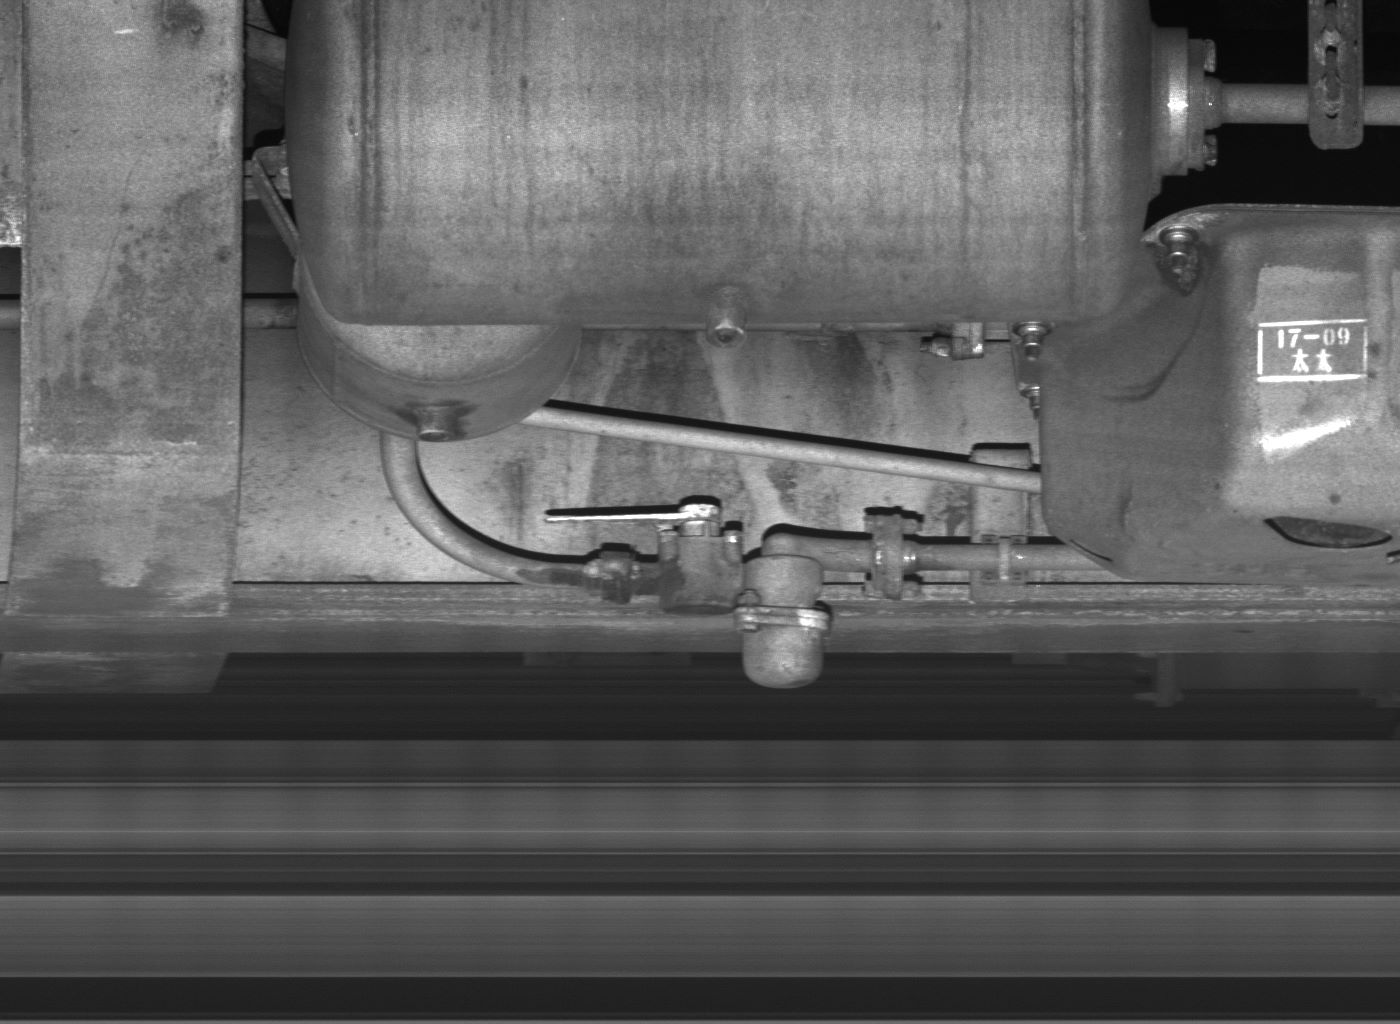normal: (542, 497, 742, 616)
